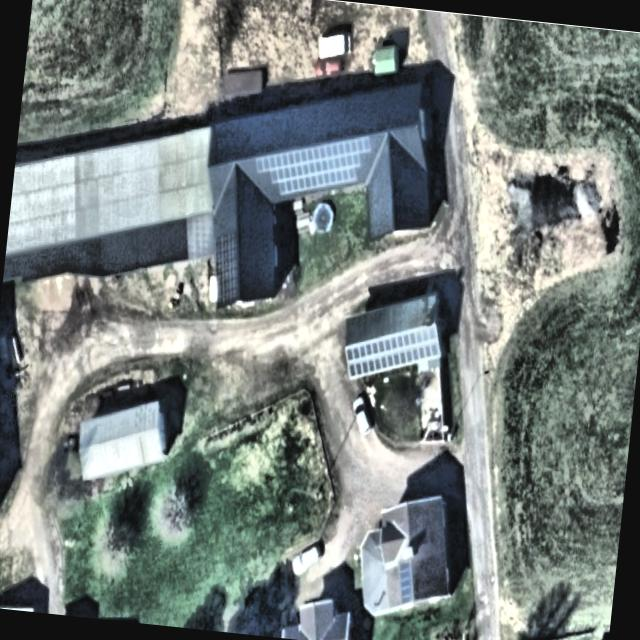roof_pv: (250, 139, 326, 201), (314, 126, 376, 188), (339, 330, 401, 387), (393, 324, 442, 371)
